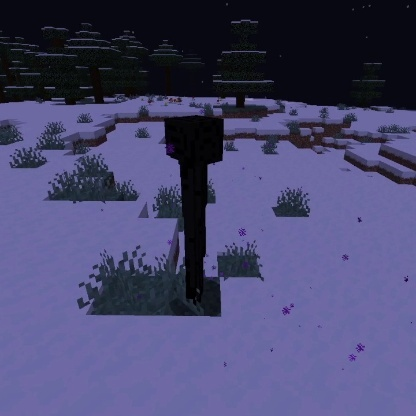enderman: (161, 113, 226, 305)
